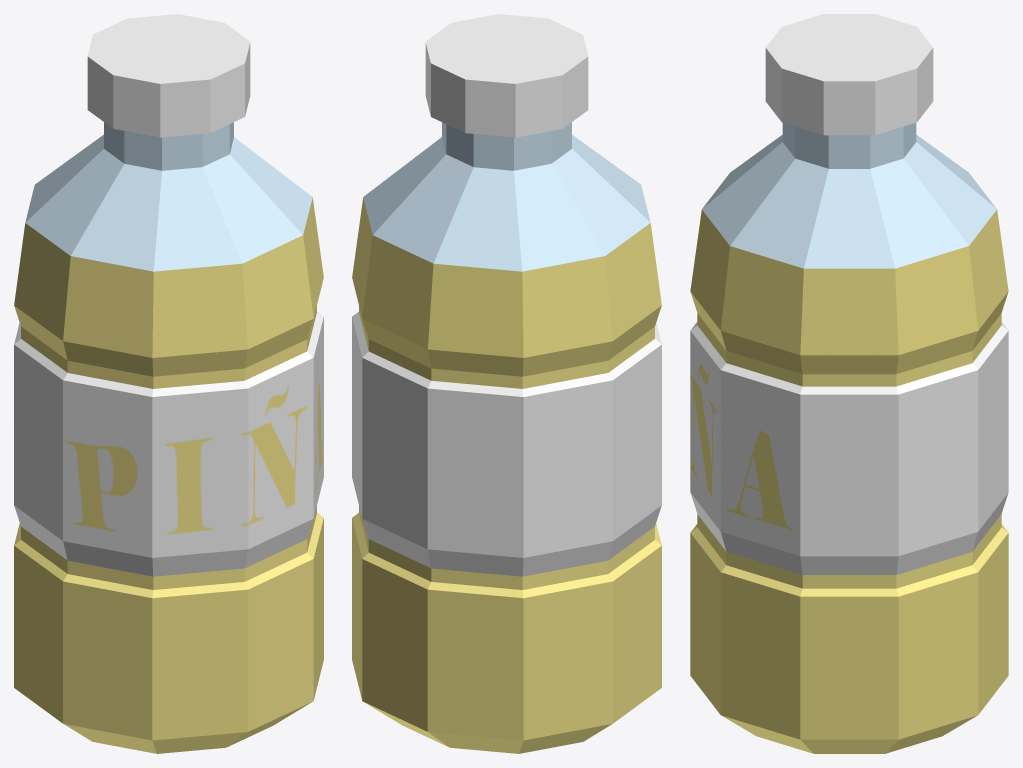
Rendered from BotellaPiña.fbx.
3 renders of one model, left to right at view 1: azimuth 30°, elevation 25°; view 2: azimuth 150°, elevation 25°; view 3: azimuth 270°, elevation 25°, orthographic.
Visible parts, largest first — view 1: p4_botella_agua_piña; view 2: p4_botella_agua_piña; view 3: p4_botella_agua_piña.
Boxes of the visible parts, box(x1,y1,x2,y2) form: p4_botella_agua_piña: box(14, 14, 323, 753); p4_botella_agua_piña: box(352, 14, 661, 753); p4_botella_agua_piña: box(690, 14, 1008, 753).
Size of the model in its own units: 0.2036 by 0.49 by 0.2141.
